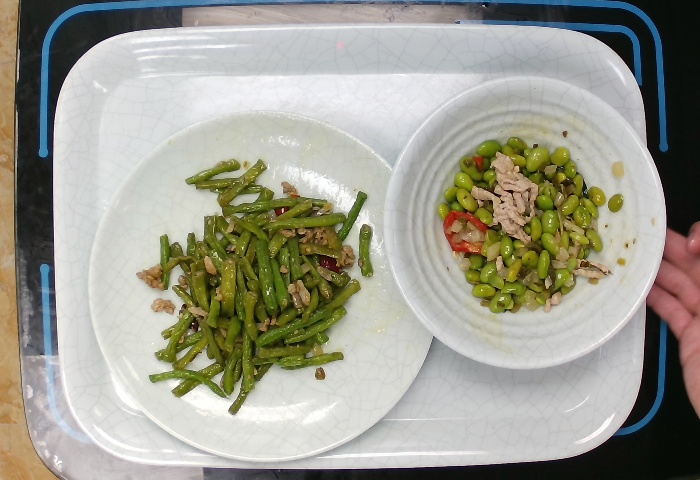JYsf-Da_Yuan_Pan: (83, 106, 439, 468)
JYsf-Xiao_Tang_Wan: (376, 70, 671, 374)
